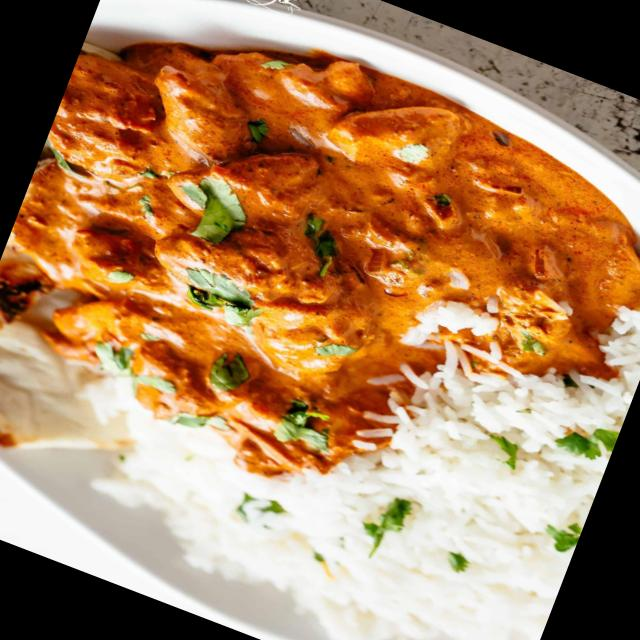chicken: (0, 0, 498, 489)
rice: (300, 337, 607, 640)
